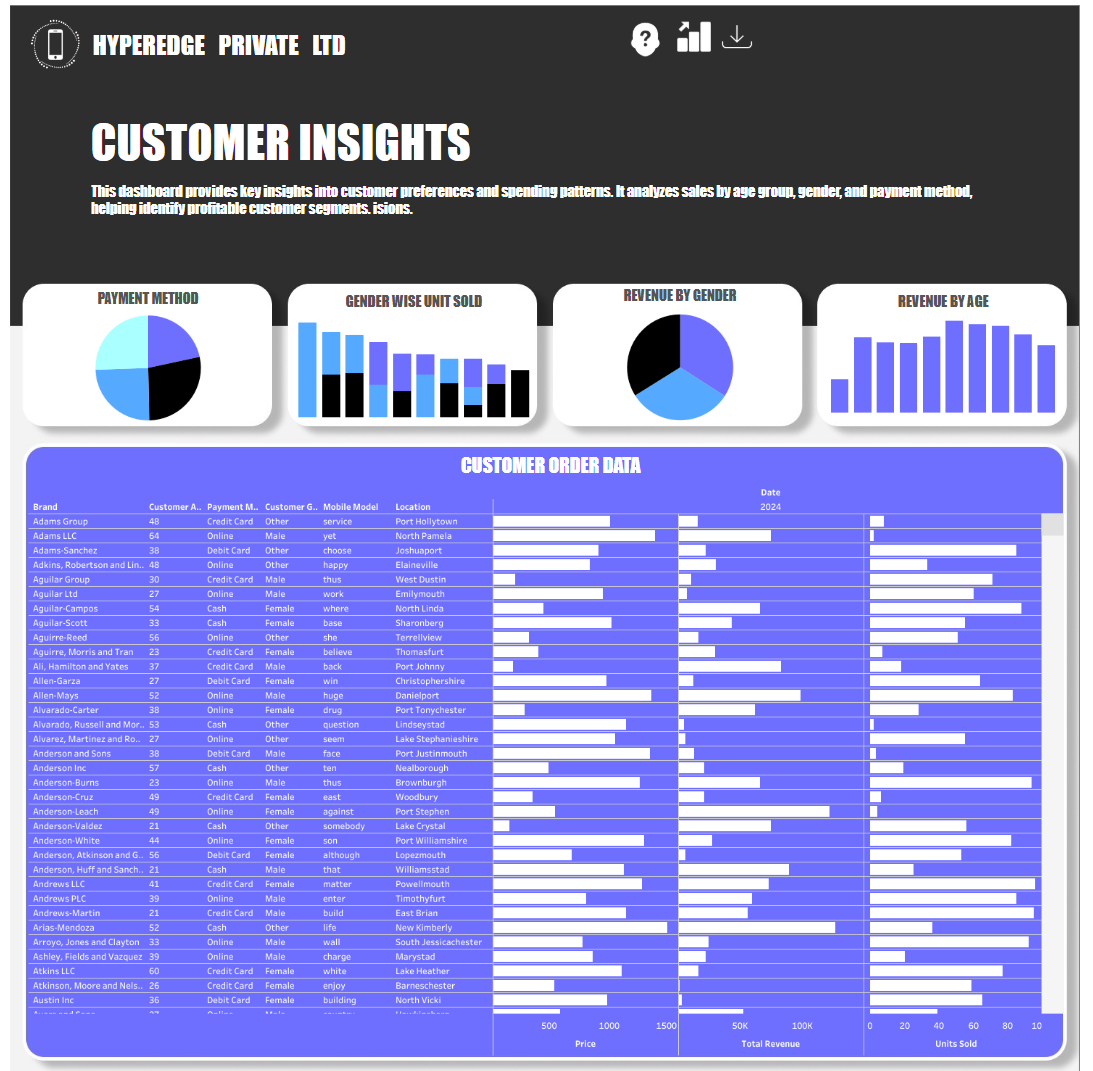

What the dashboard file says about the page in this screenshot:
{"tool":"tableau","page":{"name":"CUSTOMER INSIGHT","canvas":[1500,1500],"ordinal":1},"visuals":[{"type":"image","param":"Image/Gada Electronics (2).jpg","box":[8,8,1484,1484]},{"type":"image","param":"Image/[CITYPNG.COM]HD White Phone Outline Logo Transparent PNG - 2000x2000.png","box":[18,11,117,116]},{"type":"dashboard-object","box":[982,30,66,52]},{"type":"dashboard-object","box":[930,33,53,46]},{"type":"dashboard-object","box":[847,37,83,46]},{"type":"text","box":[127,43,461,53]},{"type":"text","box":[124,132,1226,204]},{"type":"worksheet","title":"Rev by gender","mark":"Pie","box":[758,396,357,193]},{"type":"worksheet","title":"Payment method","mark":"Pie","box":[34,399,338,188]},{"type":"worksheet","title":"Revenue by age","mark":"Automatic","rows":["TotalRevenue"],"box":[1141,403,317,172]},{"type":"worksheet","title":"Gender wise unit sold","mark":"Automatic","rows":["UnitsSold"],"cols":["Brand"],"box":[406,404,327,177]},{"type":"worksheet","title":"Customer Order Data","mark":"Bar","rows":["Brand","CustomerAge","PaymentMethod","CustomerGender","MobileModel","Location"],"cols":["Date","Price","TotalRevenue","UnitsSold"],"box":[38,626,1427,835]}]}

Visuals, with their boxes in screenshot pixels (x1, y1, x2, y2), scaled from the page's 1500x1500 canvas onto the 1093x1071 screenshot:
image: x1=6 y1=6 x2=1087 y2=1065
image: x1=13 y1=8 x2=98 y2=91
dashboard-object: x1=716 y1=21 x2=764 y2=59
dashboard-object: x1=678 y1=24 x2=716 y2=56
dashboard-object: x1=617 y1=26 x2=678 y2=59
text: x1=93 y1=31 x2=428 y2=69
text: x1=90 y1=94 x2=984 y2=240
"Rev by gender" worksheet (Pie marks): x1=552 y1=283 x2=812 y2=421
"Payment method" worksheet (Pie marks): x1=25 y1=285 x2=271 y2=419
"Revenue by age" worksheet: x1=831 y1=288 x2=1062 y2=411
"Gender wise unit sold" worksheet: x1=296 y1=288 x2=534 y2=415
"Customer Order Data" worksheet (Bar marks): x1=28 y1=447 x2=1067 y2=1043
